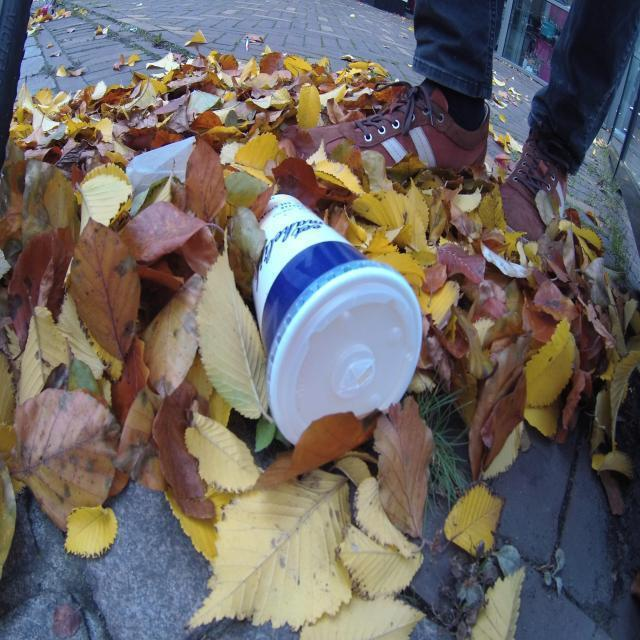Cup: (250, 192, 425, 448)
